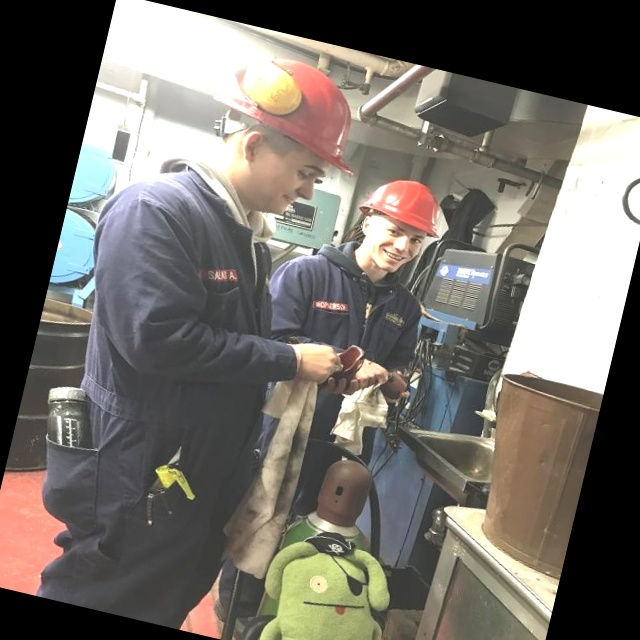Con_Casco: (199, 44, 345, 218), (349, 166, 447, 272)
